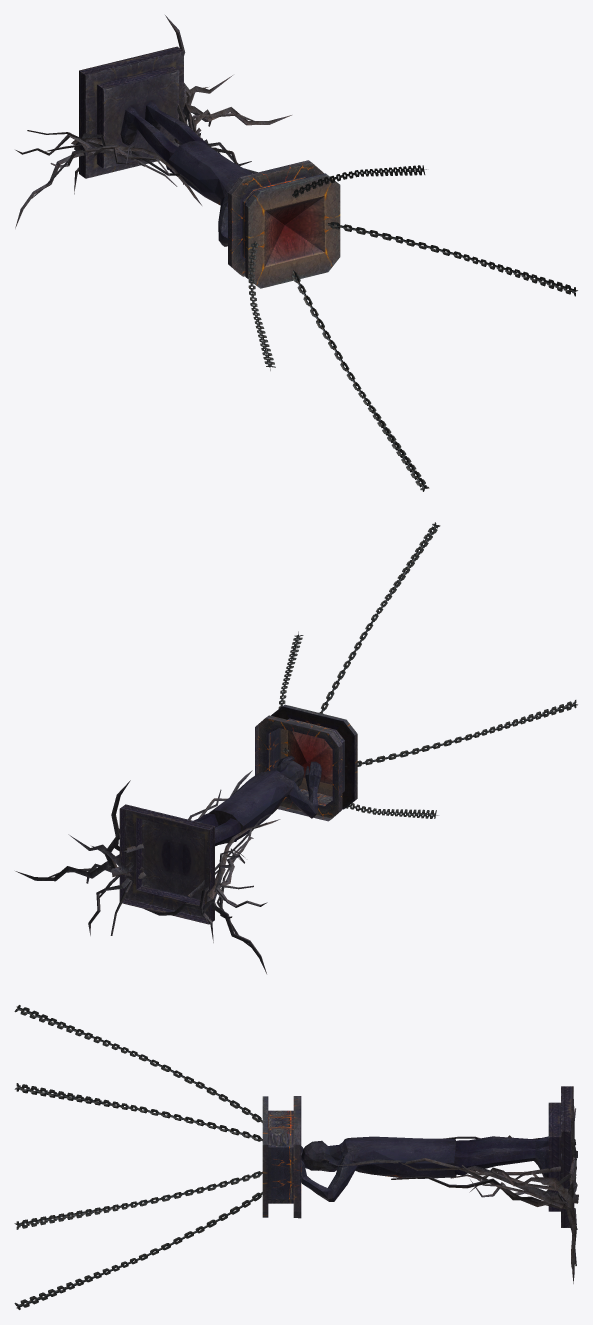
Rendered from huodong_fuben_653__diaoxiang01.obj.
The picture shows the model from 3 angles, top to bottom: view 1: azimuth 30°, elevation 25°; view 2: azimuth 150°, elevation 25°; view 3: azimuth 270°, elevation 25°; orthographic projection. The views are drawn at different scales.
Visible parts, largest first — view 1: huodong_fuben_653__diaoxiang01; view 2: huodong_fuben_653__diaoxiang01; view 3: huodong_fuben_653__diaoxiang01.
Part boxes in pixels (x1,y1,x2,y2): huodong_fuben_653__diaoxiang01: [15, 15, 577, 491]; huodong_fuben_653__diaoxiang01: [15, 522, 577, 973]; huodong_fuben_653__diaoxiang01: [14, 1005, 578, 1309].
Size of the model in its own units: 804 by 777 by 1296.
4 materials, 4 textured.
